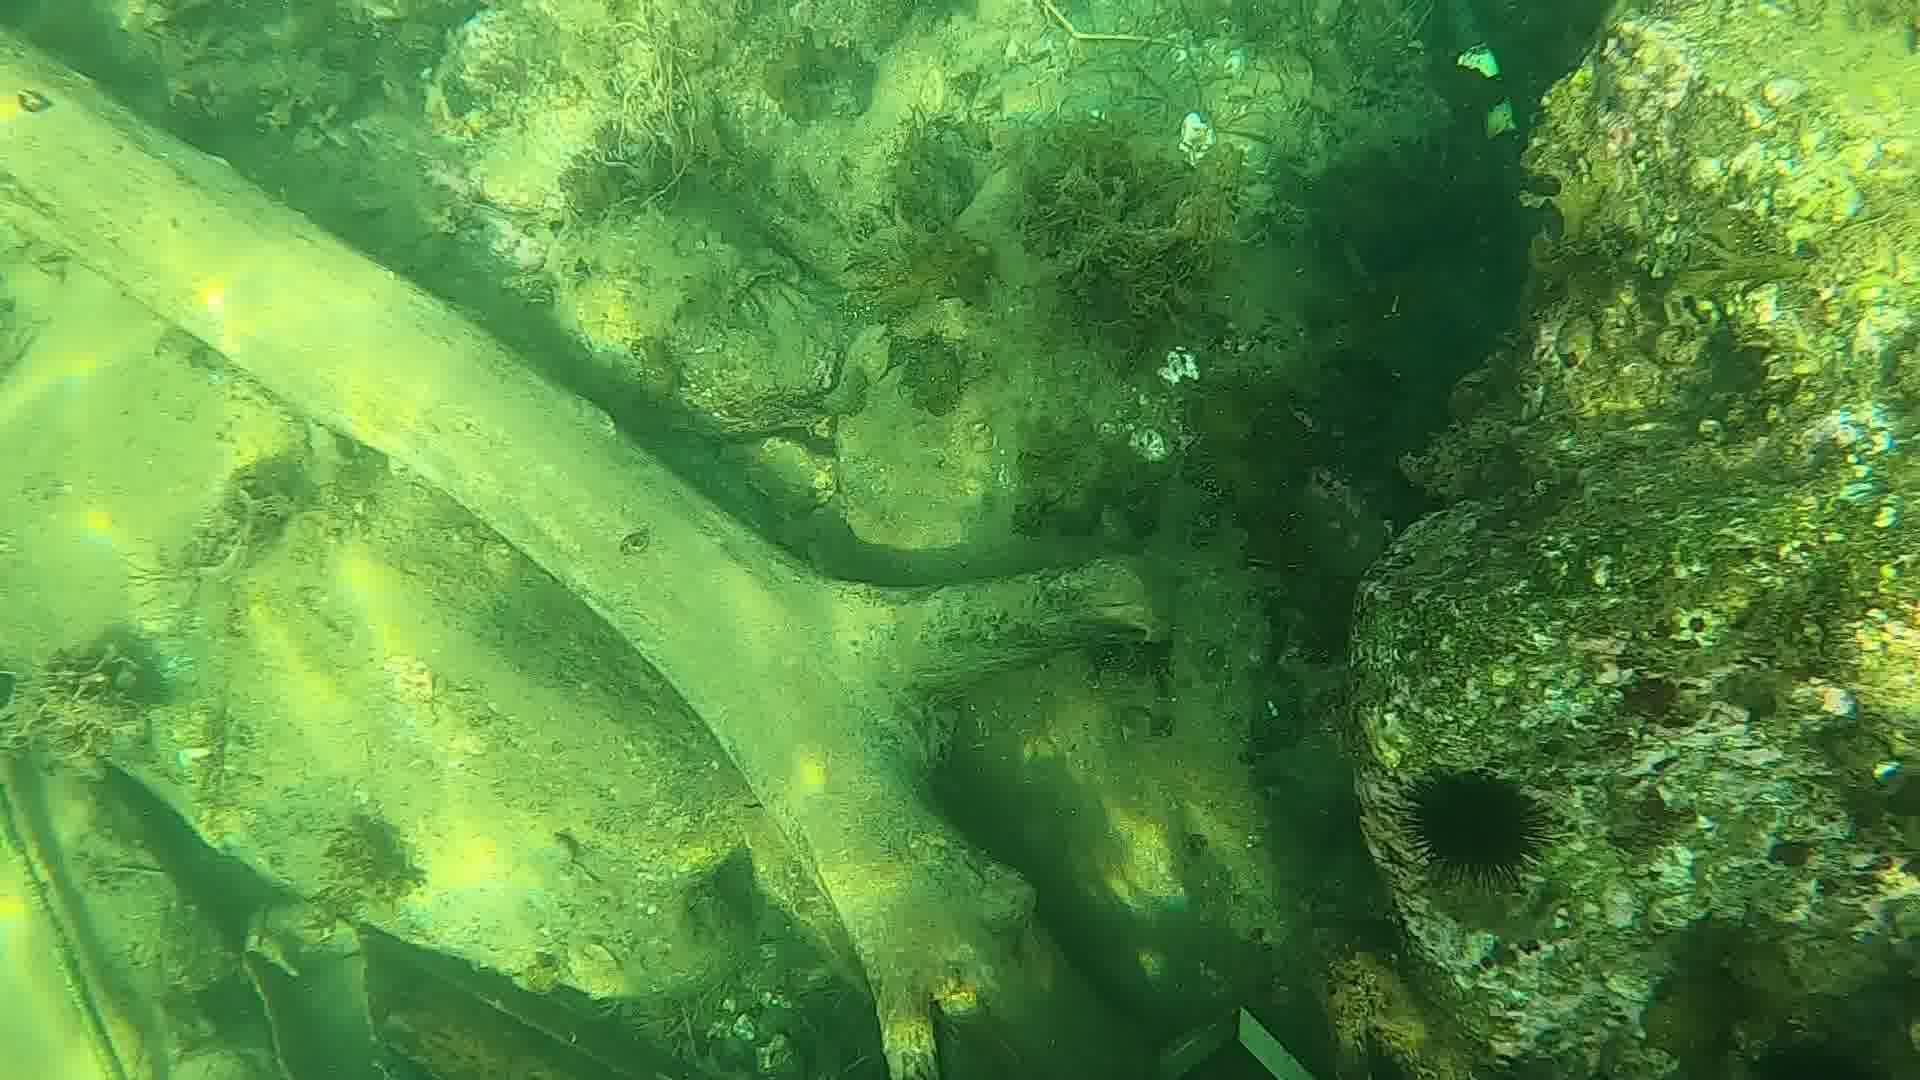wood: (0, 21, 1146, 1080)
